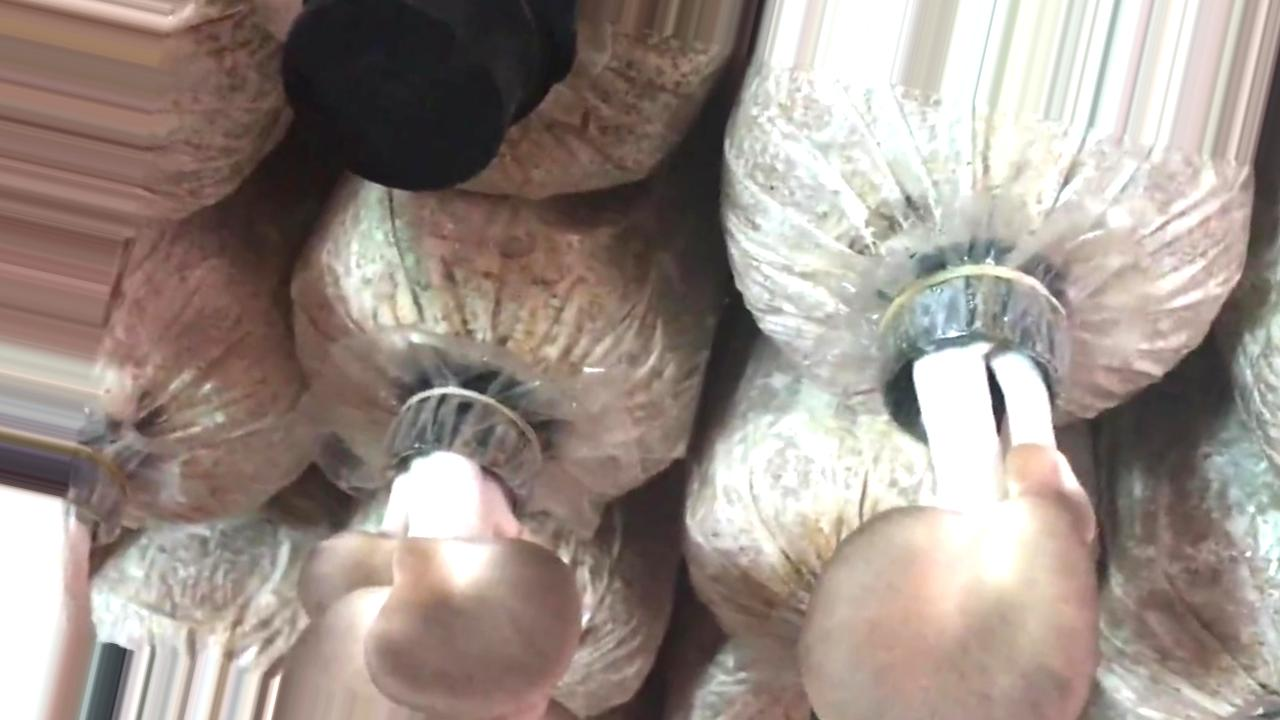nam: (801, 272, 1098, 719), (279, 395, 578, 720)
